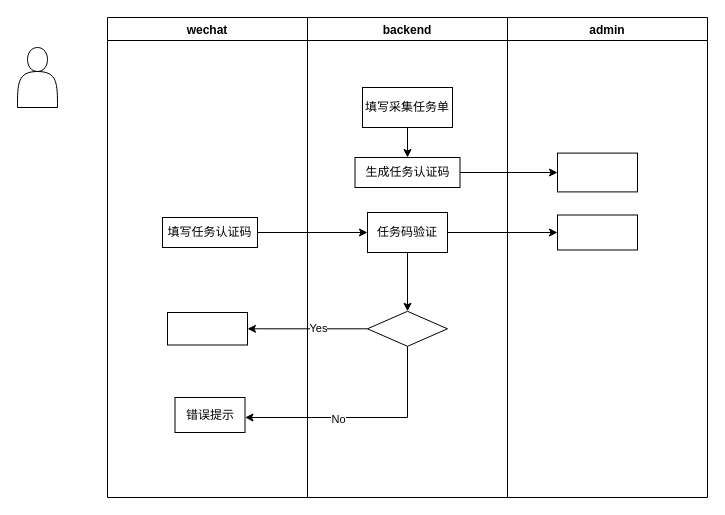
The diagram is 725 pixels wide and 515 high, and some of its shapes have lost their labels. The shapes that lost their labels are listed below. From the top down, each one's centre as x and y in pixels, then its label:
At (597,172): "保存到log表中".
At (597,232): "访问到log表中".
At (207,328): "成功".
At (407,328): "匹配".
